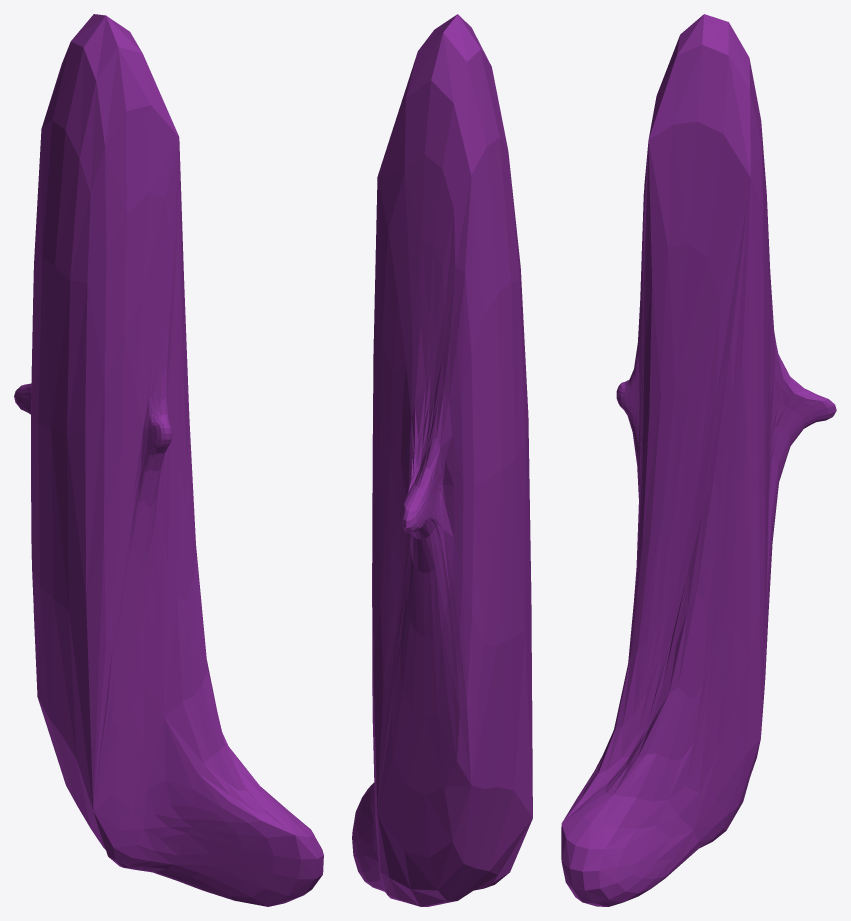
3 renders of one model, left to right at view 1: azimuth 30°, elevation 25°; view 2: azimuth 150°, elevation 25°; view 3: azimuth 270°, elevation 25°, orthographic. The views are drawn at different scales.
Visible parts, largest first — view 1: 047_Cube.192; view 2: 047_Cube.192; view 3: 047_Cube.192.
Boxes of the visible parts, x1,y1,x2,y2 form: 047_Cube.192: (14, 14, 323, 906); 047_Cube.192: (352, 14, 532, 906); 047_Cube.192: (561, 14, 836, 906).
Size of the model in its own units: 2.97 by 11.88 by 3.56.
